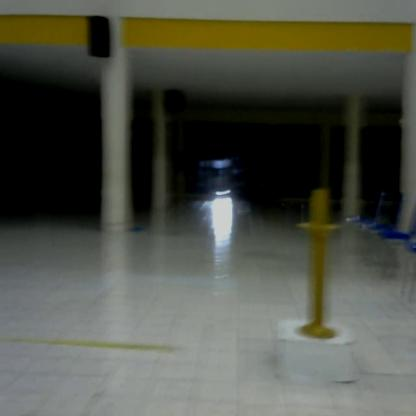pole: (292, 183, 347, 347)
